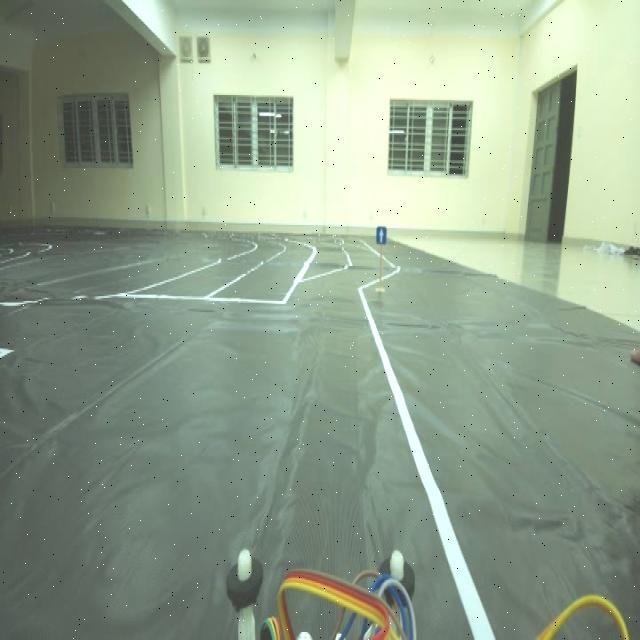onewayroad: (370, 225, 388, 247)
